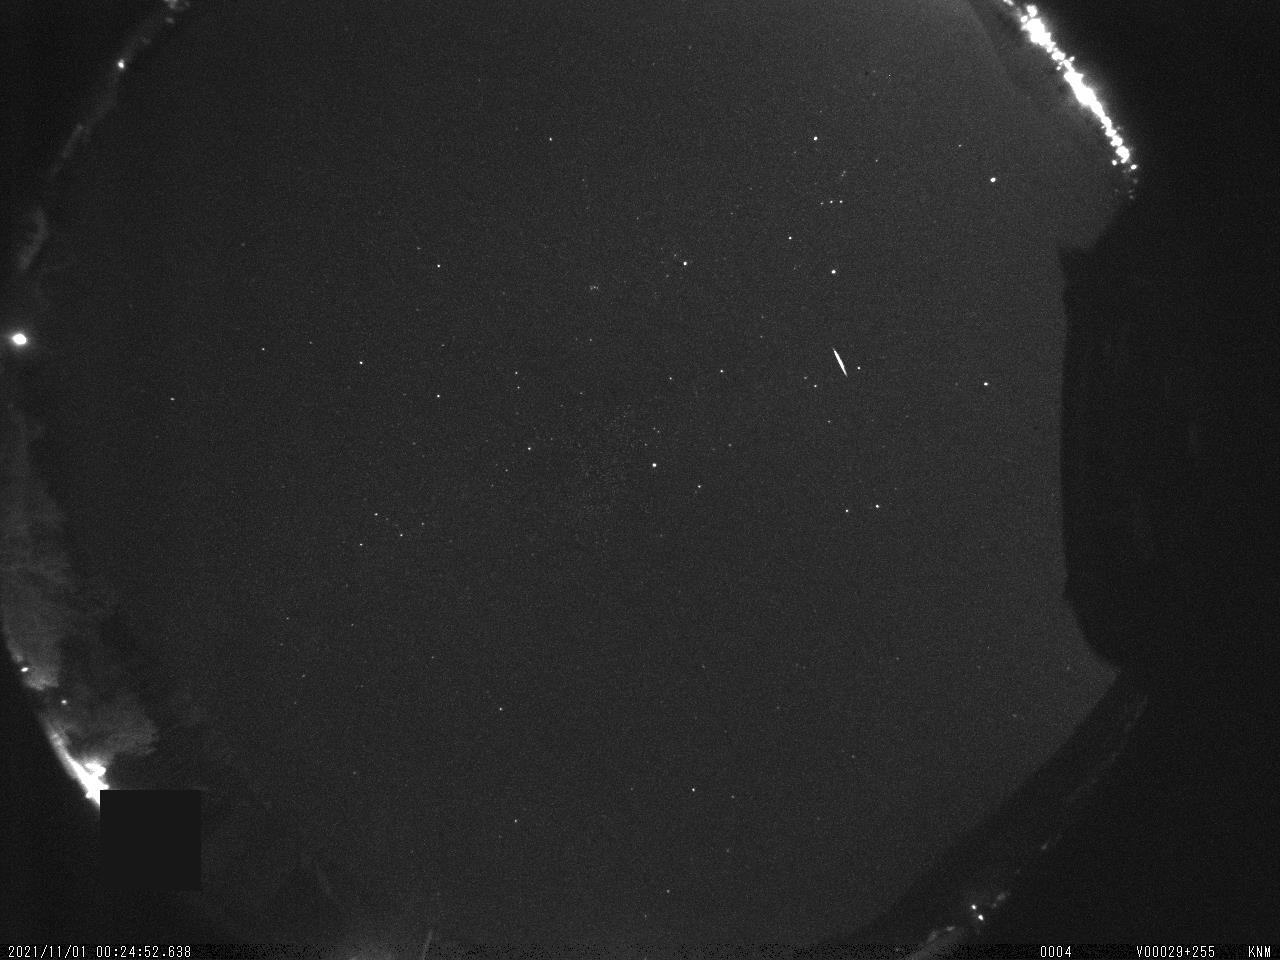meteor: (813, 337, 867, 387)
